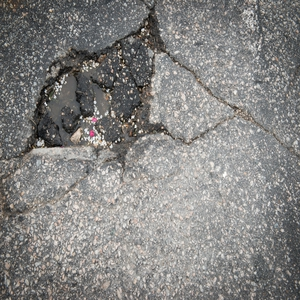pothole: (35, 27, 167, 165)
